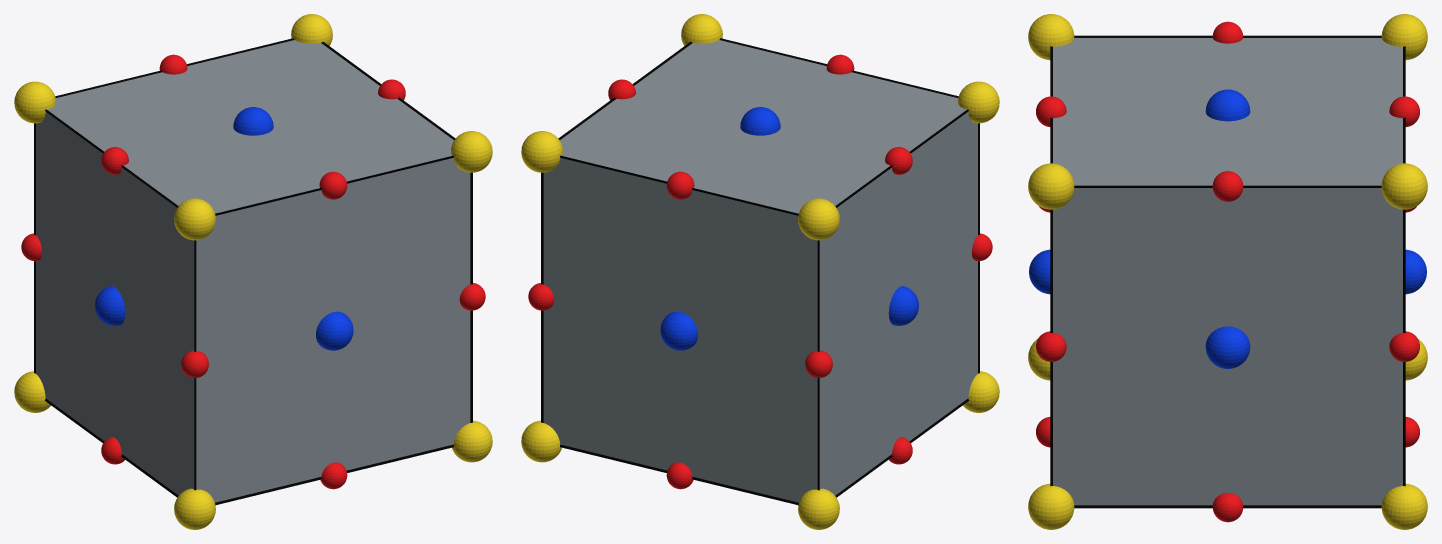
Rendered from cellule_atome.glb.
The picture shows the model from 3 angles, left to right: view 1: azimuth 30°, elevation 25°; view 2: azimuth 150°, elevation 25°; view 3: azimuth 270°, elevation 25°; orthographic projection. The views are drawn at different scales.
Parts seen in each view (by area): view 1: maille_transparente, maille_arretes, coin.003, coin.005, coin.002, coin.001, coin.004, Sphère.015, coin.006, coin, Sphère.013, Sphère.016 (+5 smaller); view 2: maille_transparente, maille_arretes, coin.001, coin, coin.006, coin.003, coin.007, Sphère.014, coin.002, coin.005, Sphère.013, Sphère.016 (+5 smaller); view 3: maille_transparente, maille_arretes, coin, coin.005, coin.004, coin.007, Sphère.012, coin.001, coin.003, Sphère.016, Sphère.014, Sphère.015 (+9 smaller).
Boxes of the visible parts, left/top/right/bottom form: maille_transparente: left=36, top=40, right=470, bottom=502; maille_arretes: left=34, top=38, right=472, bottom=505; coin.003: left=174, top=198, right=215, bottom=240; coin.005: left=451, top=131, right=492, bottom=172; coin.002: left=174, top=488, right=215, bottom=529; coin.001: left=14, top=81, right=55, bottom=123; coin.004: left=452, top=420, right=492, bottom=462; Sphère.015: left=316, top=311, right=353, bottom=350; coin.006: left=14, top=371, right=50, bottom=412; coin: left=291, top=14, right=332, bottom=45; Sphère.013: left=95, top=286, right=125, bottom=325; Sphère.016: left=233, top=107, right=273, bottom=135; maille_transparente: left=543, top=40, right=977, bottom=502; maille_arretes: left=541, top=38, right=979, bottom=505; coin.001: left=798, top=198, right=839, bottom=240; coin: left=521, top=131, right=562, bottom=172; coin.006: left=798, top=488, right=839, bottom=529; coin.003: left=958, top=81, right=999, bottom=123; coin.007: left=521, top=420, right=561, bottom=462; Sphère.014: left=660, top=311, right=697, bottom=350; coin.002: left=963, top=371, right=999, bottom=412; coin.005: left=681, top=14, right=722, bottom=45; Sphère.013: left=888, top=286, right=918, bottom=325; Sphère.016: left=740, top=107, right=780, bottom=135; maille_transparente: left=1053, top=38, right=1402, bottom=505; maille_arretes: left=1050, top=35, right=1405, bottom=508; coin: left=1381, top=163, right=1427, bottom=209; coin.005: left=1028, top=163, right=1074, bottom=209; coin.004: left=1028, top=483, right=1074, bottom=529; coin.007: left=1381, top=483, right=1427, bottom=529; Sphère.012: left=1205, top=326, right=1250, bottom=368; coin.001: left=1381, top=14, right=1427, bottom=60; coin.003: left=1028, top=14, right=1074, bottom=60; Sphère.016: left=1205, top=89, right=1250, bottom=121; Sphère.014: left=1405, top=249, right=1426, bottom=294; Sphère.015: left=1029, top=249, right=1050, bottom=294.
Size of the model in its own units: 2.26 by 2.26 by 2.26.
